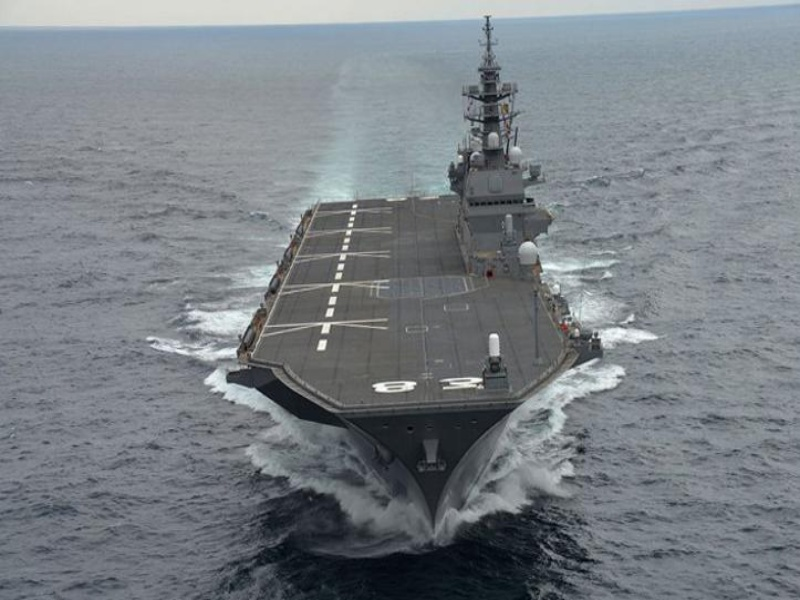carrier: (241, 95, 605, 533)
